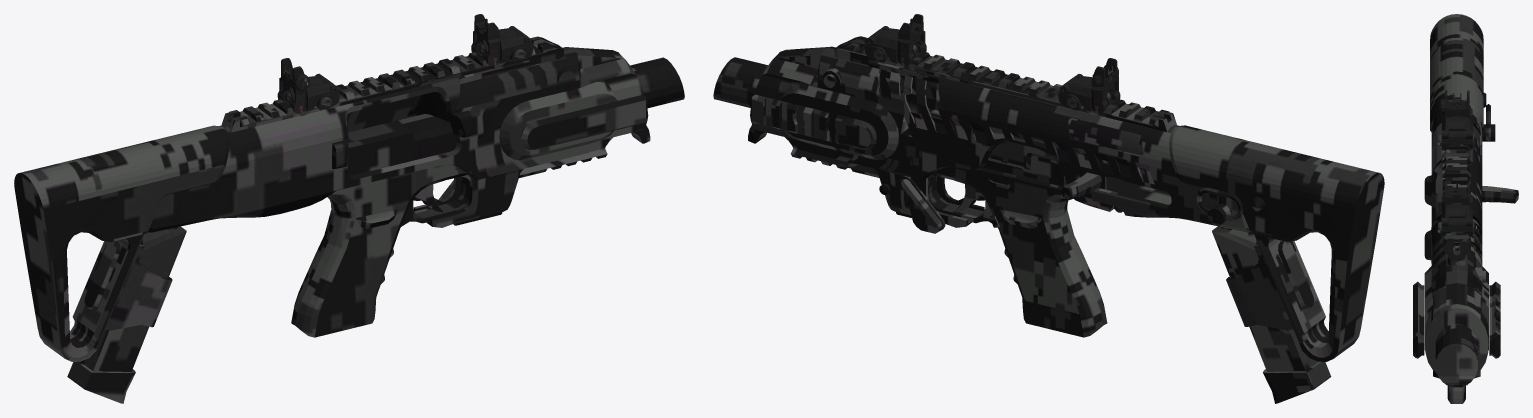
3 views of the same model, side by side, from view 1: azimuth 30°, elevation 25°; view 2: azimuth 150°, elevation 25°; view 3: azimuth 270°, elevation 25° (orthographic). The views are drawn at different scales.
Parts seen in each view (by area): view 1: Gun_Root; view 2: Gun_Root; view 3: Gun_Root.
Boxes of the visible parts, <box> form: Gun_Root: <box>14,14,684,403</box>; Gun_Root: <box>713,14,1384,403</box>; Gun_Root: <box>1413,14,1518,403</box>.
Size of the model in its own units: 0.493 by 0.2118 by 0.0744.
Materials: 2 (2 with a texture image).
